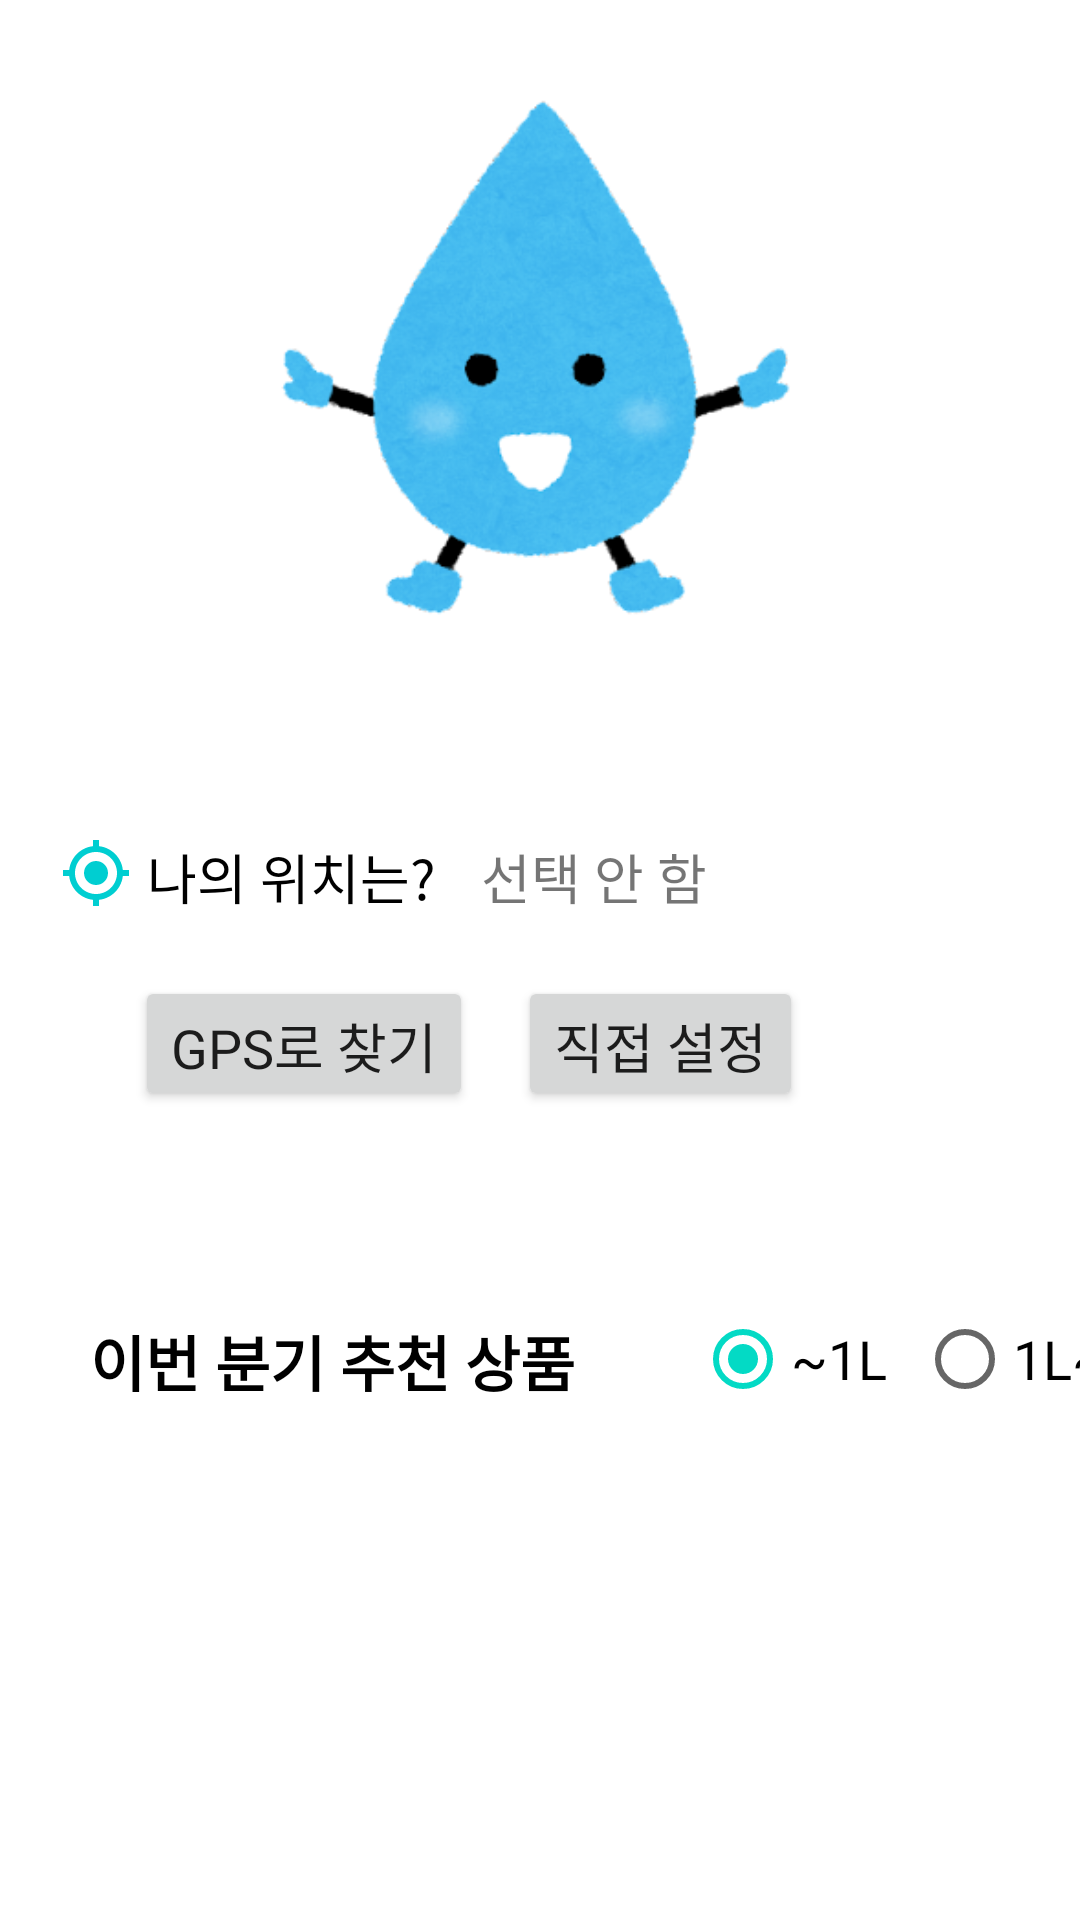

Where icons sit on this 1080px x 1920px app screen, as region(x1, y1, x2, y2):
gps mark: region(63, 840, 129, 906)
